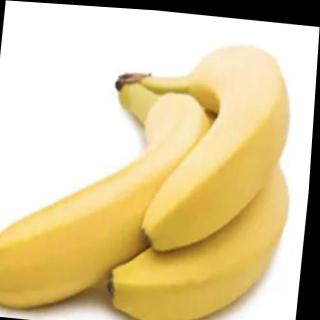banana: (0, 65, 220, 320), (106, 87, 302, 320), (122, 30, 300, 264)
